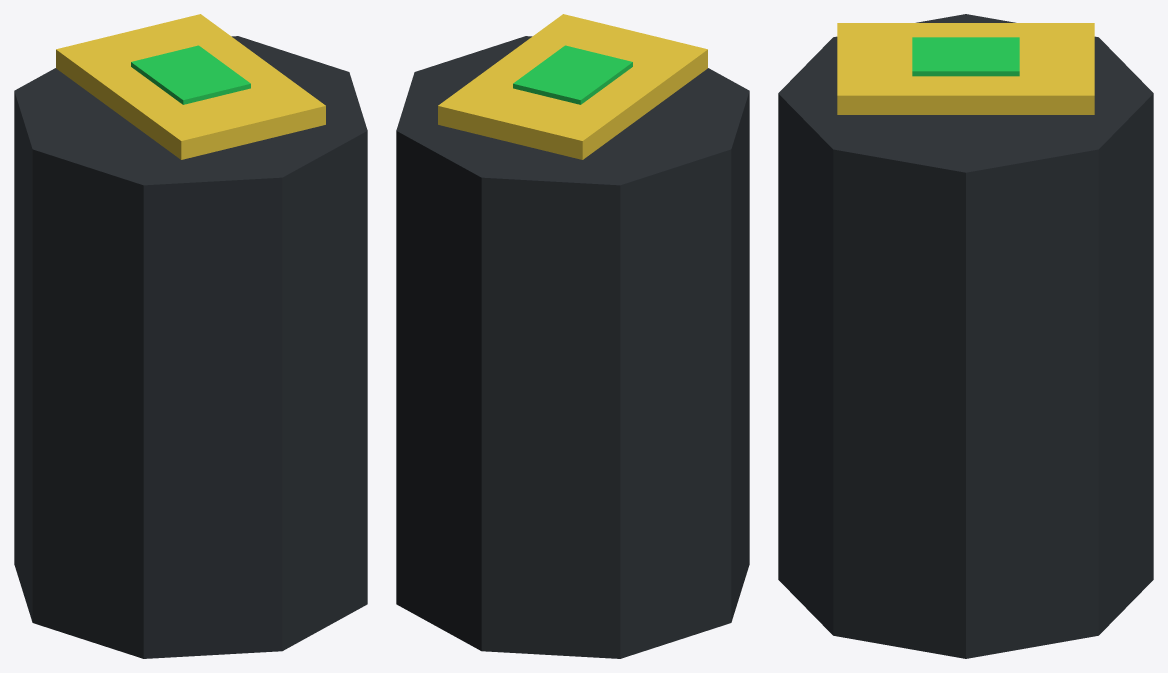
The model's file is master_keycard.obj.
The picture shows the model from 3 angles, left to right: view 1: azimuth 30°, elevation 25°; view 2: azimuth 150°, elevation 25°; view 3: azimuth 270°, elevation 25°; orthographic projection. The views are drawn at different scales.
Size of the model in its own units: 0.7 by 1.08 by 0.7.
